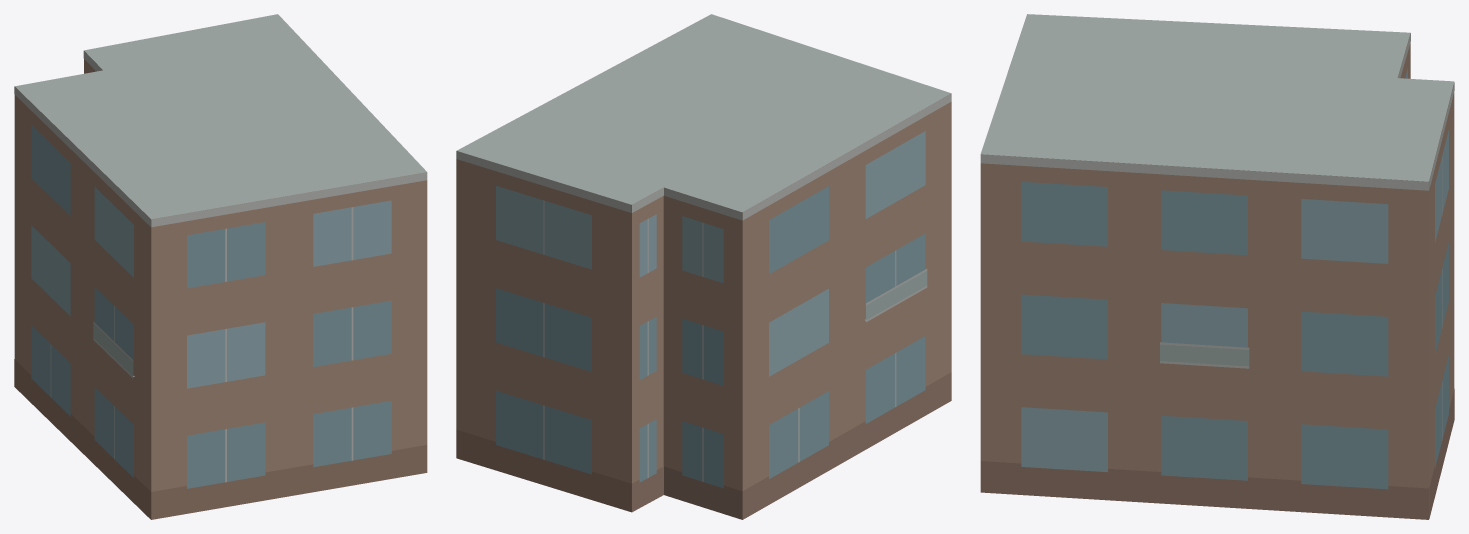
File: survey-upis-32482416.glb
3 views of the same model, side by side, from view 1: azimuth 30°, elevation 25°; view 2: azimuth 150°, elevation 25°; view 3: azimuth 270°, elevation 25° (orthographic). The views are drawn at different scales.
Parts seen in each view (by area): view 1: survey-upis-32482416.tmp; view 2: survey-upis-32482416.tmp; view 3: survey-upis-32482416.tmp.
Boxes of the visible parts, left/top/right/bottom form: survey-upis-32482416.tmp: left=14, top=14, right=427, bottom=519; survey-upis-32482416.tmp: left=456, top=14, right=951, bottom=519; survey-upis-32482416.tmp: left=980, top=14, right=1454, bottom=519.
Bounding box in the file's own units: 9.74 × 9.15 × 11.64.
